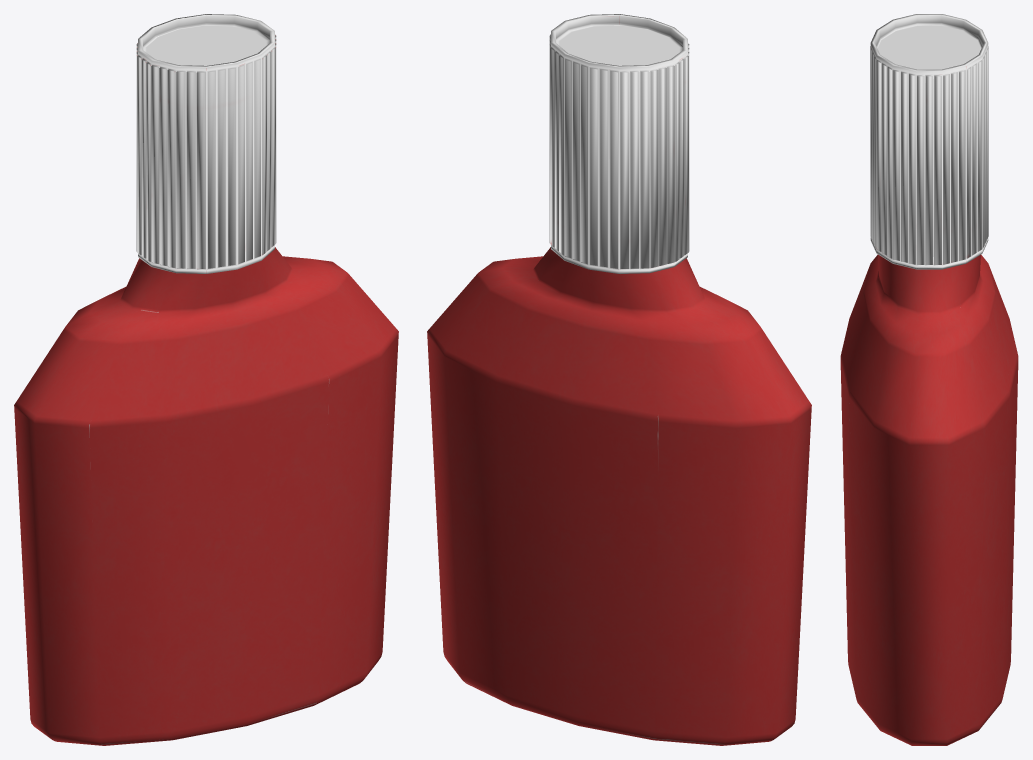
File: Tip ExJadi.fbx
3 views of the same model, side by side, from view 1: azimuth 30°, elevation 25°; view 2: azimuth 150°, elevation 25°; view 3: azimuth 270°, elevation 25° (orthographic). The views are drawn at different scales.
Parts seen in each view (by area): view 1: Circle.004; view 2: Circle.004; view 3: Circle.004.
Boxes of the visible parts, x1,y1,x2,y2 form: Circle.004: (14,14,398,745); Circle.004: (427,14,811,745); Circle.004: (840,14,1018,745).
Bounding box in the file's own units: 105 × 180 × 46.19.
